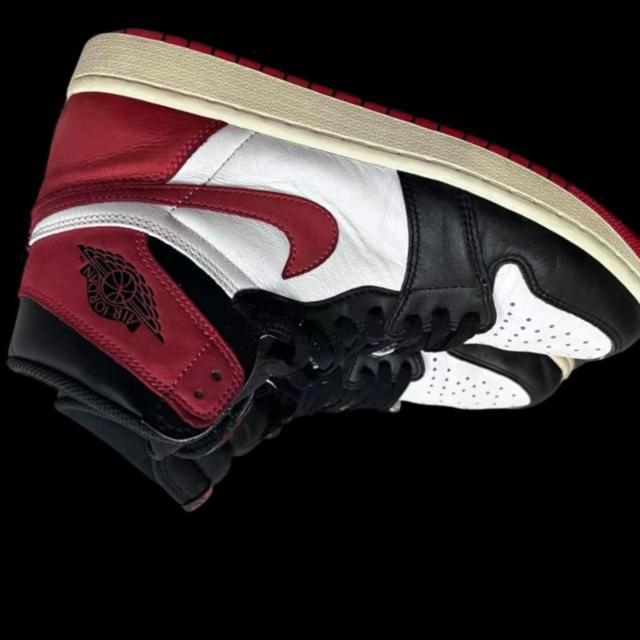nike original jordan 1: (0, 0, 640, 611), (31, 188, 580, 626)
